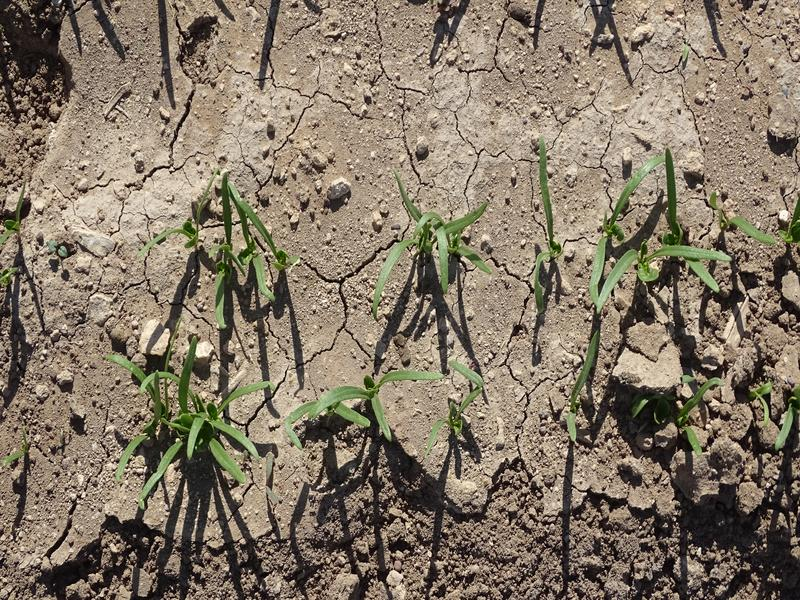Espinaca: (590, 161, 773, 312), (110, 355, 270, 484), (370, 177, 494, 307), (283, 365, 423, 446), (196, 184, 273, 316), (646, 377, 712, 456), (569, 332, 602, 446), (532, 142, 555, 303), (450, 361, 486, 432)
